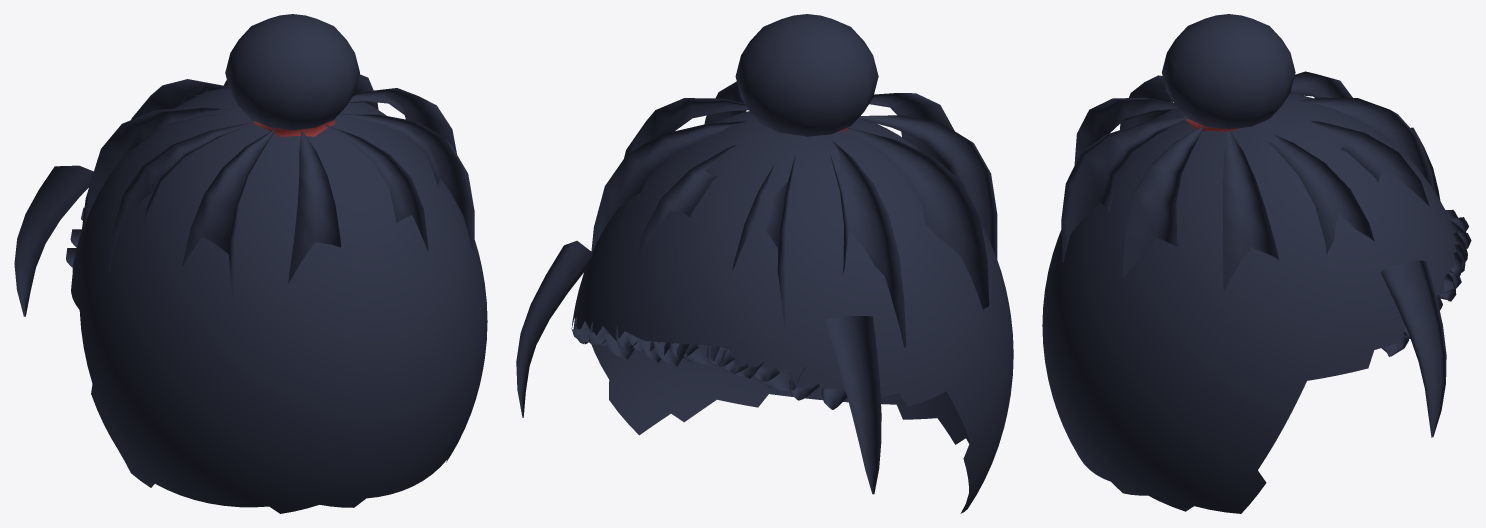
File: anime_hair_topknot.glb
The picture shows the model from 3 angles, left to right: view 1: azimuth 30°, elevation 25°; view 2: azimuth 150°, elevation 25°; view 3: azimuth 270°, elevation 25°; orthographic projection. The views are drawn at different scales.
Parts seen in each view (by area): view 1: hair_cap, hair; view 2: hair_cap, hair; view 3: hair_cap, hair.
Boxes of the visible parts, box(x1,y1,x2,y2) form: hair_cap: box(71, 85, 487, 513); hair: box(14, 14, 474, 316); hair_cap: box(571, 111, 1013, 513); hair: box(516, 14, 997, 494); hair_cap: box(1042, 93, 1455, 513); hair: box(1061, 14, 1471, 437).
Bounding box in the file's own units: 0.282 × 0.3217 × 0.2949.
